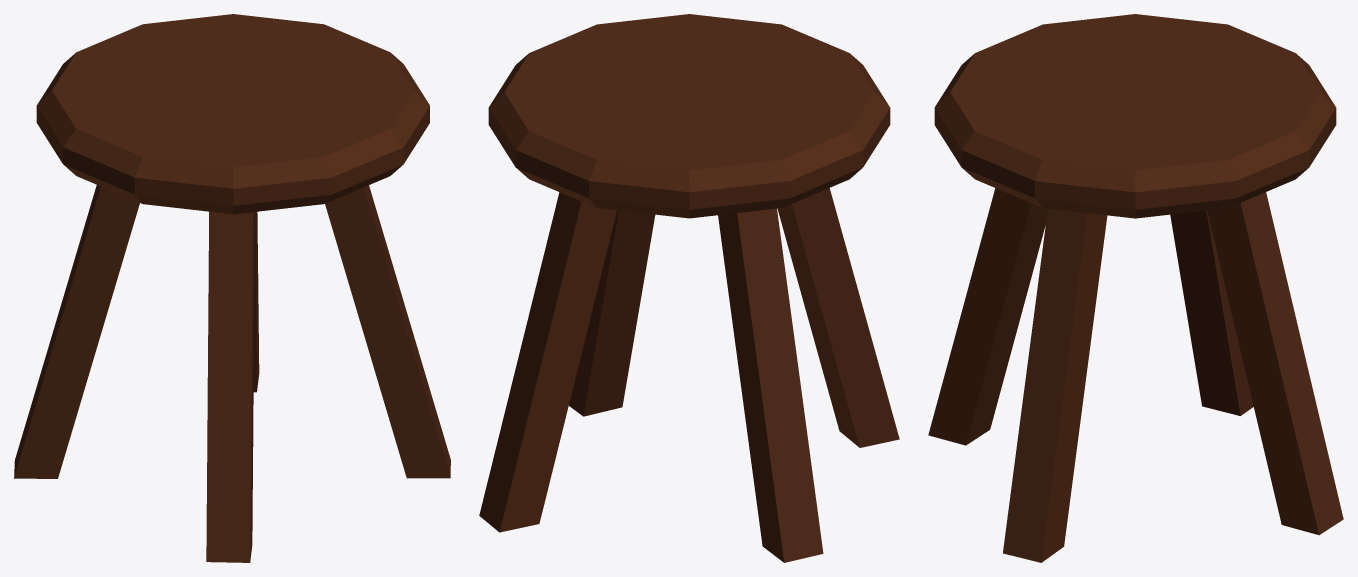
File: 4er Hocker Var 1.fbx
3 renders of one model, left to right at view 1: azimuth 30°, elevation 25°; view 2: azimuth 150°, elevation 25°; view 3: azimuth 270°, elevation 25°, orthographic. The views are drawn at different scales.
Parts seen in each view (by area): view 1: 4er Hocker Var 1; view 2: 4er Hocker Var 1; view 3: 4er Hocker Var 1.
Boxes of the visible parts, <box> form: 4er Hocker Var 1: <box>14,14,450,562</box>; 4er Hocker Var 1: <box>479,14,899,562</box>; 4er Hocker Var 1: <box>928,14,1343,562</box>.
Bounding box in the file's own units: 61.61 × 64.07 × 62.6.
